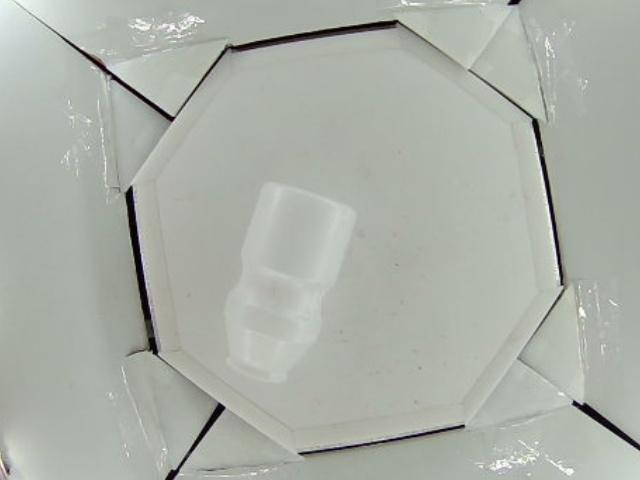Bottle: (226, 179, 356, 379)
